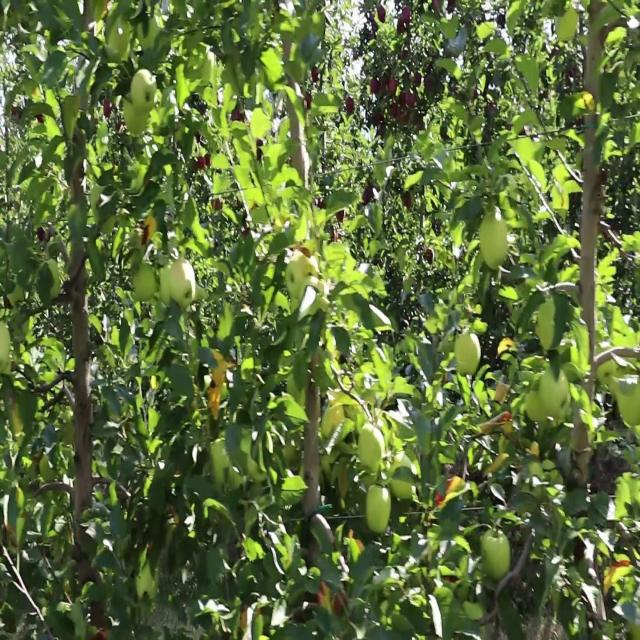apple: (480, 220, 509, 270), (368, 490, 392, 537), (172, 263, 195, 308), (456, 334, 480, 377), (132, 71, 157, 112), (212, 348, 237, 386), (556, 7, 580, 43), (140, 14, 163, 50), (4, 511, 25, 548), (208, 383, 222, 420), (144, 220, 158, 247), (12, 405, 24, 434), (348, 533, 364, 553), (340, 469, 349, 498), (196, 156, 212, 171), (104, 99, 113, 121), (404, 92, 416, 108), (388, 78, 399, 94), (404, 191, 412, 212), (400, 92, 410, 108), (364, 191, 373, 206), (400, 113, 410, 126), (404, 7, 412, 23), (408, 92, 416, 108), (348, 99, 356, 114), (392, 106, 400, 121), (372, 78, 380, 92), (424, 78, 432, 92), (428, 248, 435, 263), (376, 113, 384, 126), (380, 7, 387, 21), (216, 199, 222, 212), (416, 71, 421, 85), (400, 21, 404, 36), (404, 49, 409, 60)
